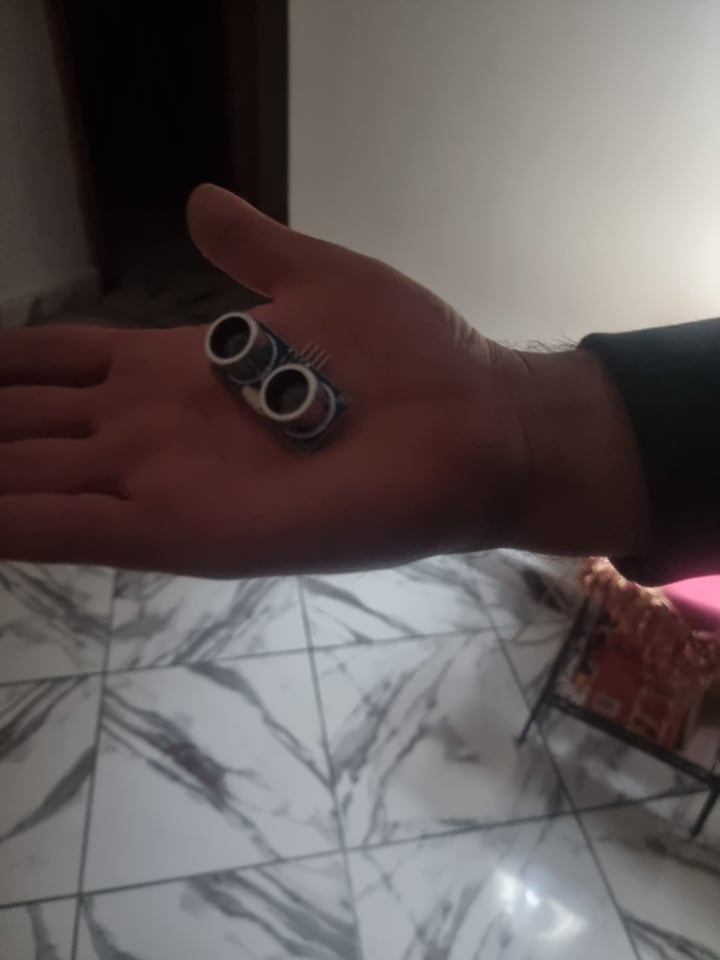SENSOR: (201, 310, 346, 452)
